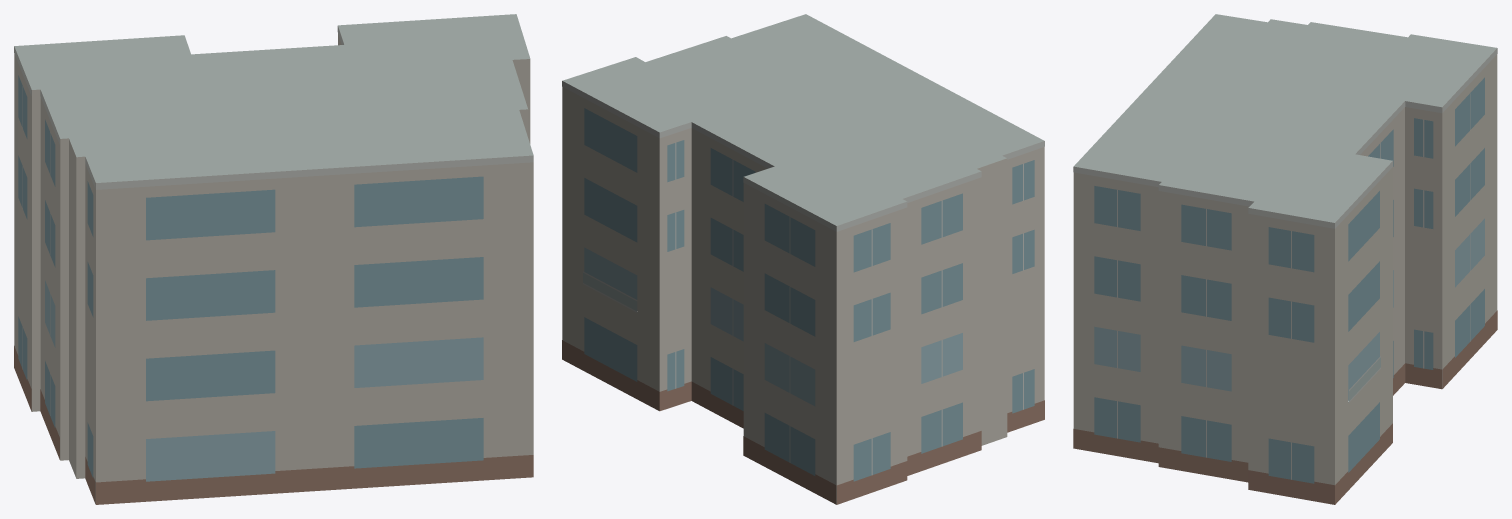
The model's file is survey-upis-32661339.glb.
The picture shows the model from 3 angles, left to right: view 1: azimuth 30°, elevation 25°; view 2: azimuth 150°, elevation 25°; view 3: azimuth 270°, elevation 25°; orthographic projection. The views are drawn at different scales.
Parts seen in each view (by area): view 1: survey-upis-32661339.tmp; view 2: survey-upis-32661339.tmp; view 3: survey-upis-32661339.tmp.
Boxes of the visible parts, x1,y1,x2,y2 form: survey-upis-32661339.tmp: [14, 14, 533, 504]; survey-upis-32661339.tmp: [562, 14, 1044, 504]; survey-upis-32661339.tmp: [1073, 14, 1497, 504].
Bounding box in the file's own units: 18.45 × 11.6 × 15.82.
